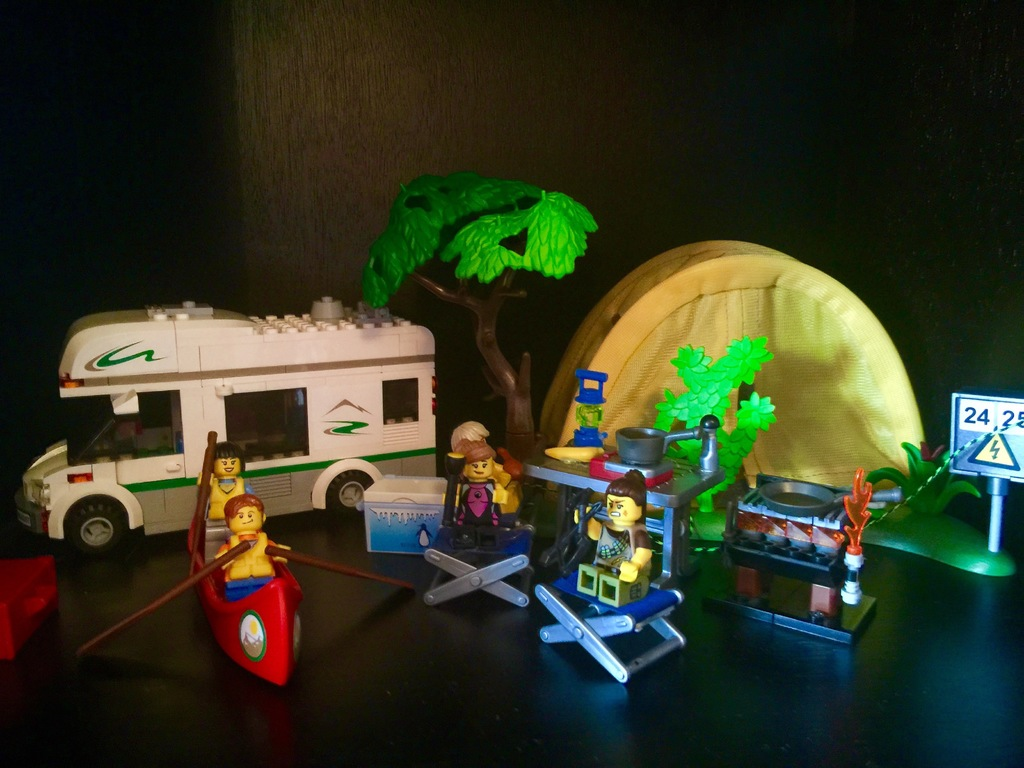Tree: (352, 165, 593, 460)
